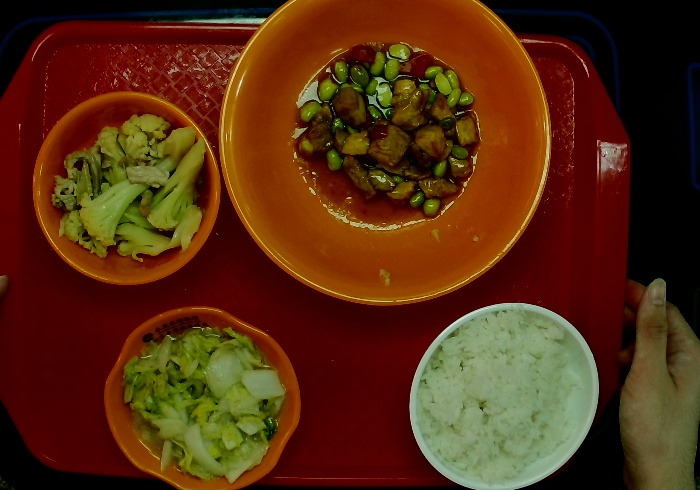YKMZ-Fan_Wan: (402, 299, 603, 490)
YKMZ-Ju_Se_Ao_Bian_Wan: (98, 300, 306, 490)
YKMZ-Ju_Se_Tang_Wan: (213, 1, 556, 311)
YKMZ-Ju_Se_Yuan_Wan: (28, 87, 224, 291)
